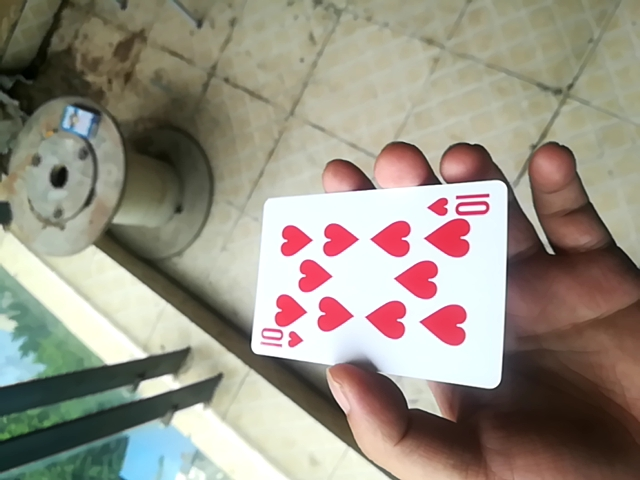hx 10: (249, 180, 507, 389)
